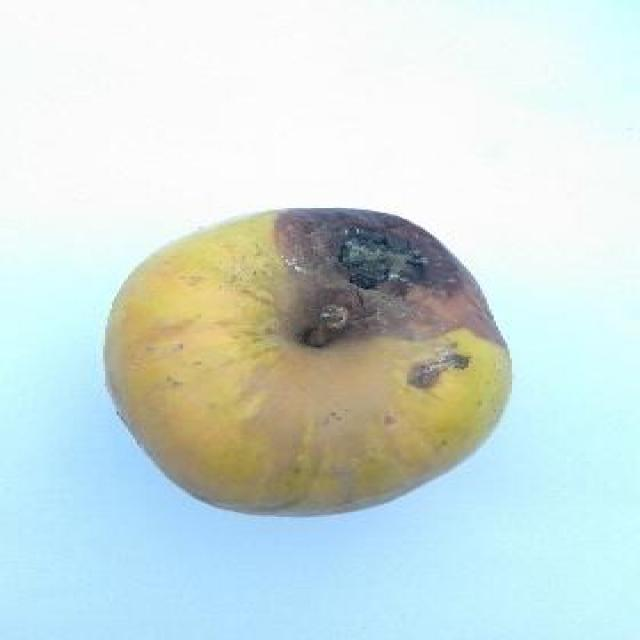Apple: (103, 207, 510, 518)
